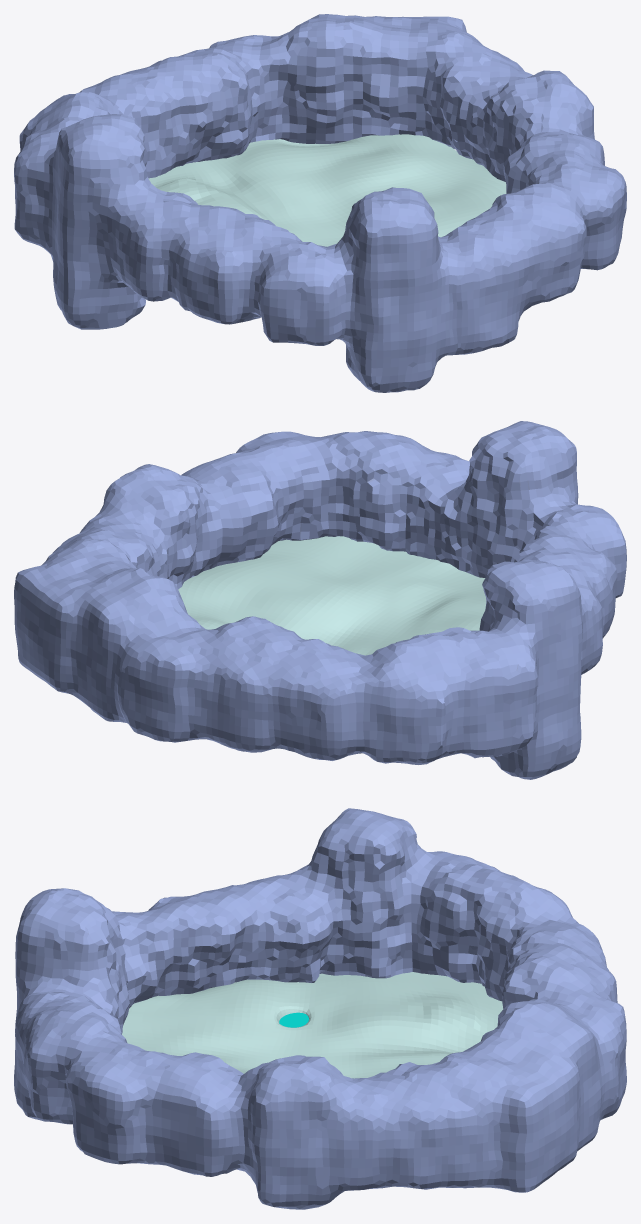
The model's file is pole_nord_ground.fbx.
The picture shows the model from 3 angles, top to bottom: view 1: azimuth 30°, elevation 25°; view 2: azimuth 150°, elevation 25°; view 3: azimuth 270°, elevation 25°; orthographic projection. The views are drawn at different scales.
Visible parts, largest first — view 1: pole_nord.001; view 2: pole_nord.001; view 3: pole_nord.001.
Part boxes in pixels (x1,y1,x2,y2): pole_nord.001: (14, 14, 626, 392); pole_nord.001: (14, 421, 626, 779); pole_nord.001: (14, 808, 626, 1209).
Bounding box in the file's own units: 24656 × 9549 × 25062.
